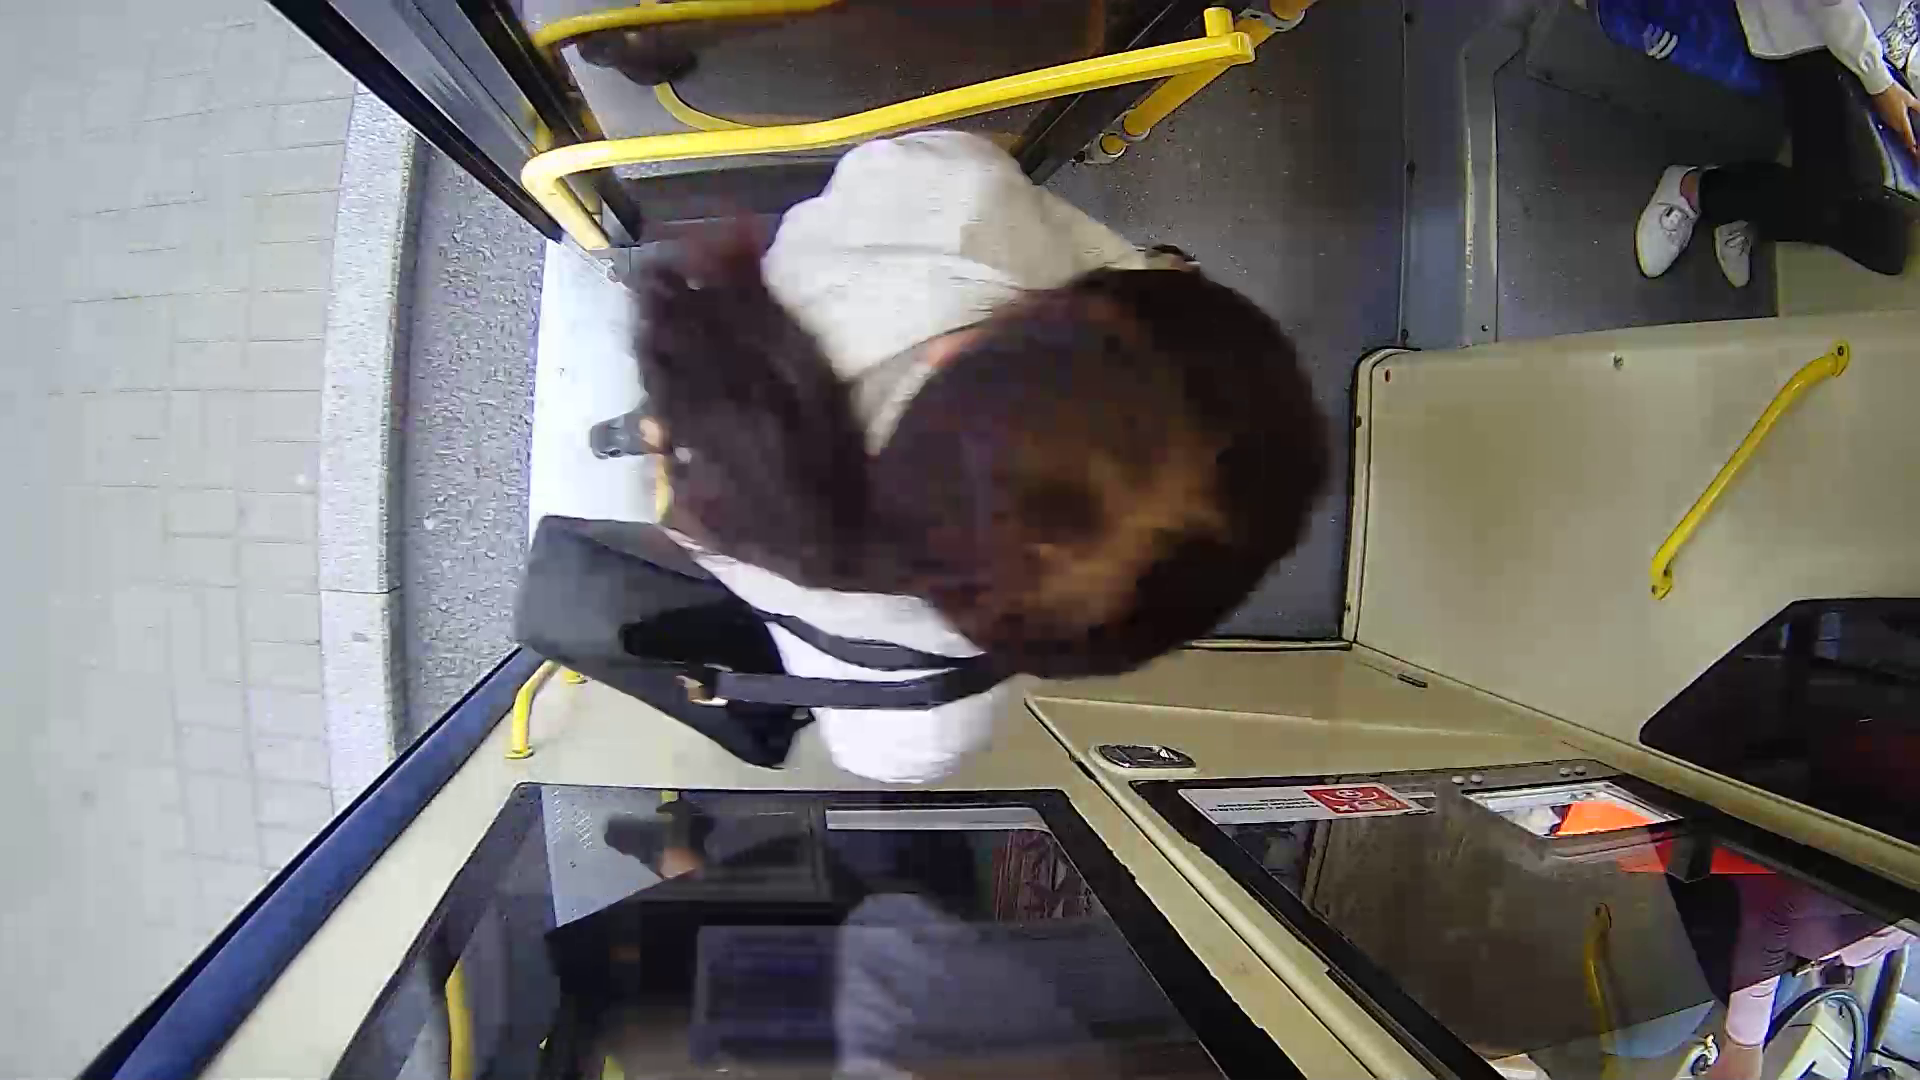person: (495, 110, 1368, 769)
